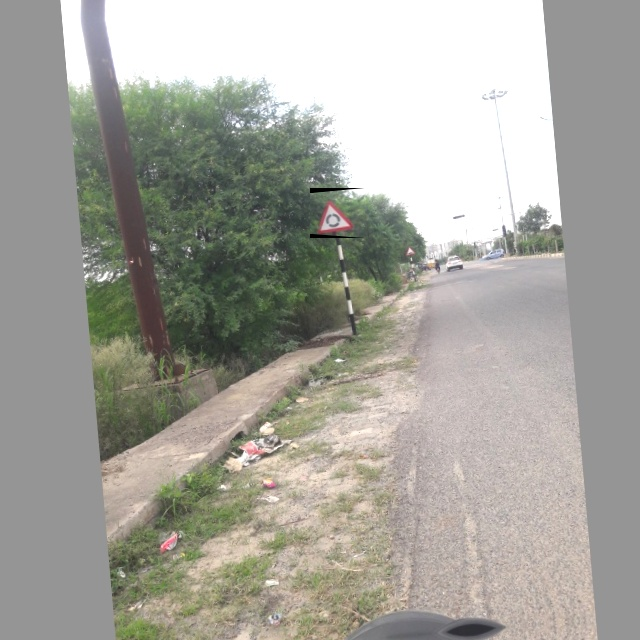Round_About: (310, 188, 365, 238)
